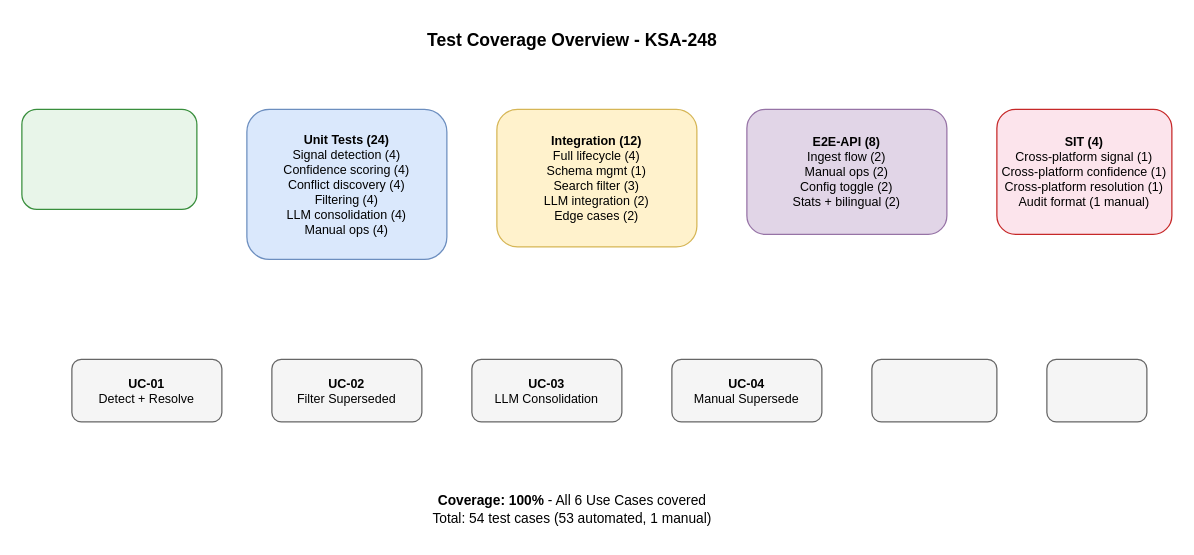
Image size: 1194x555. Some labels were removed from this diagram. The shapes that lost their labels are listed below. From the top down, each one's centre as x and y in pixels, then its label:
pixel 109 158: PBT (6) Signal detection Confidence bounds Filter properties
pixel 934 390: UC-05 Revalidate
pixel 1096 390: UC-06 Stats
